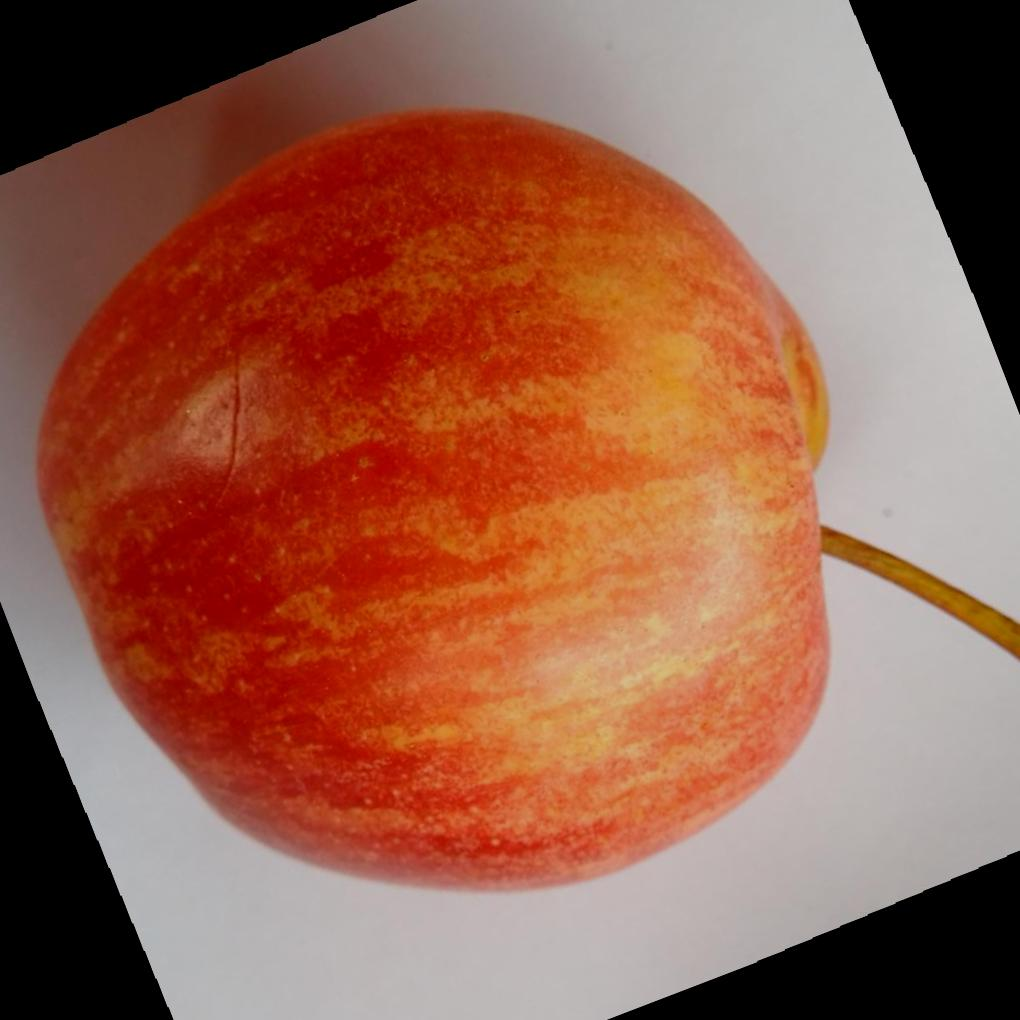FreshGuava: (29, 106, 830, 894)
